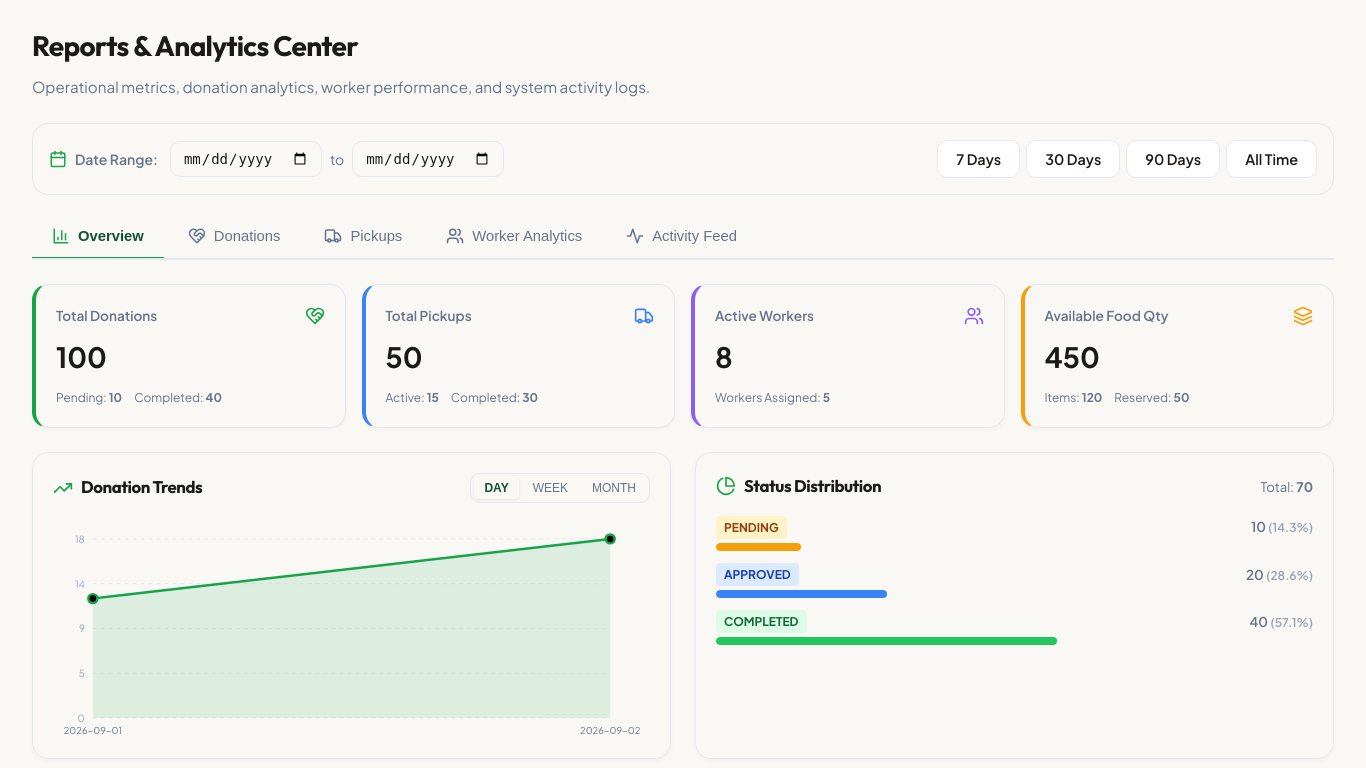
Test: Module 07 — Reports, Dashboard & Analytics Suite › AdminReportsPage › switches tabs to Donations and renders controls
Check: the heading "Reports & Analytics Center" is shown, box x1=32 y1=28 x2=358 y2=63
Click the button "Donations" at (234, 238), box x1=168 y1=215 x2=300 y2=260
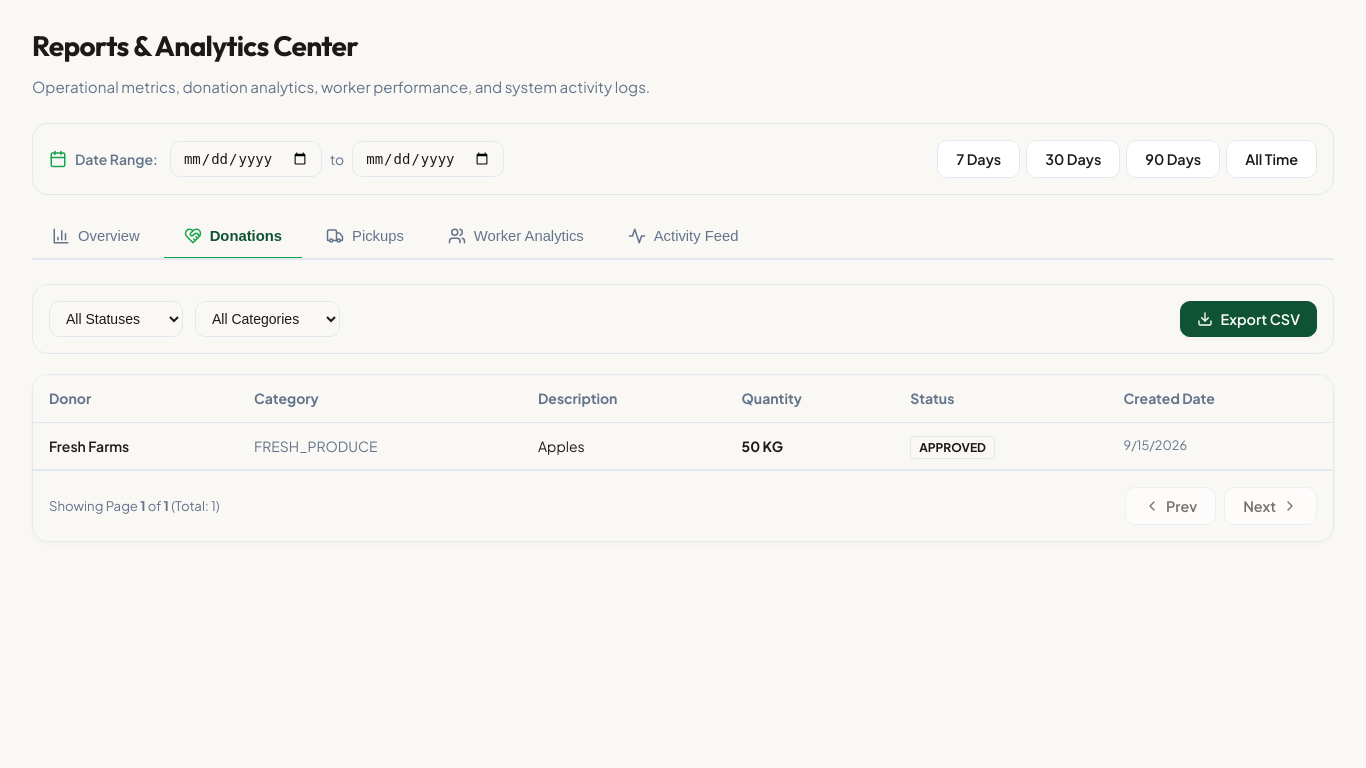
Check: the text "Fresh Farms" is shown, box x1=33 y1=422 x2=238 y2=469
Check: the text "50 KG" is shown, box x1=726 y1=422 x2=894 y2=469
Check: the text "Export CSV" is shown, box x1=1221 y1=310 x2=1300 y2=328
